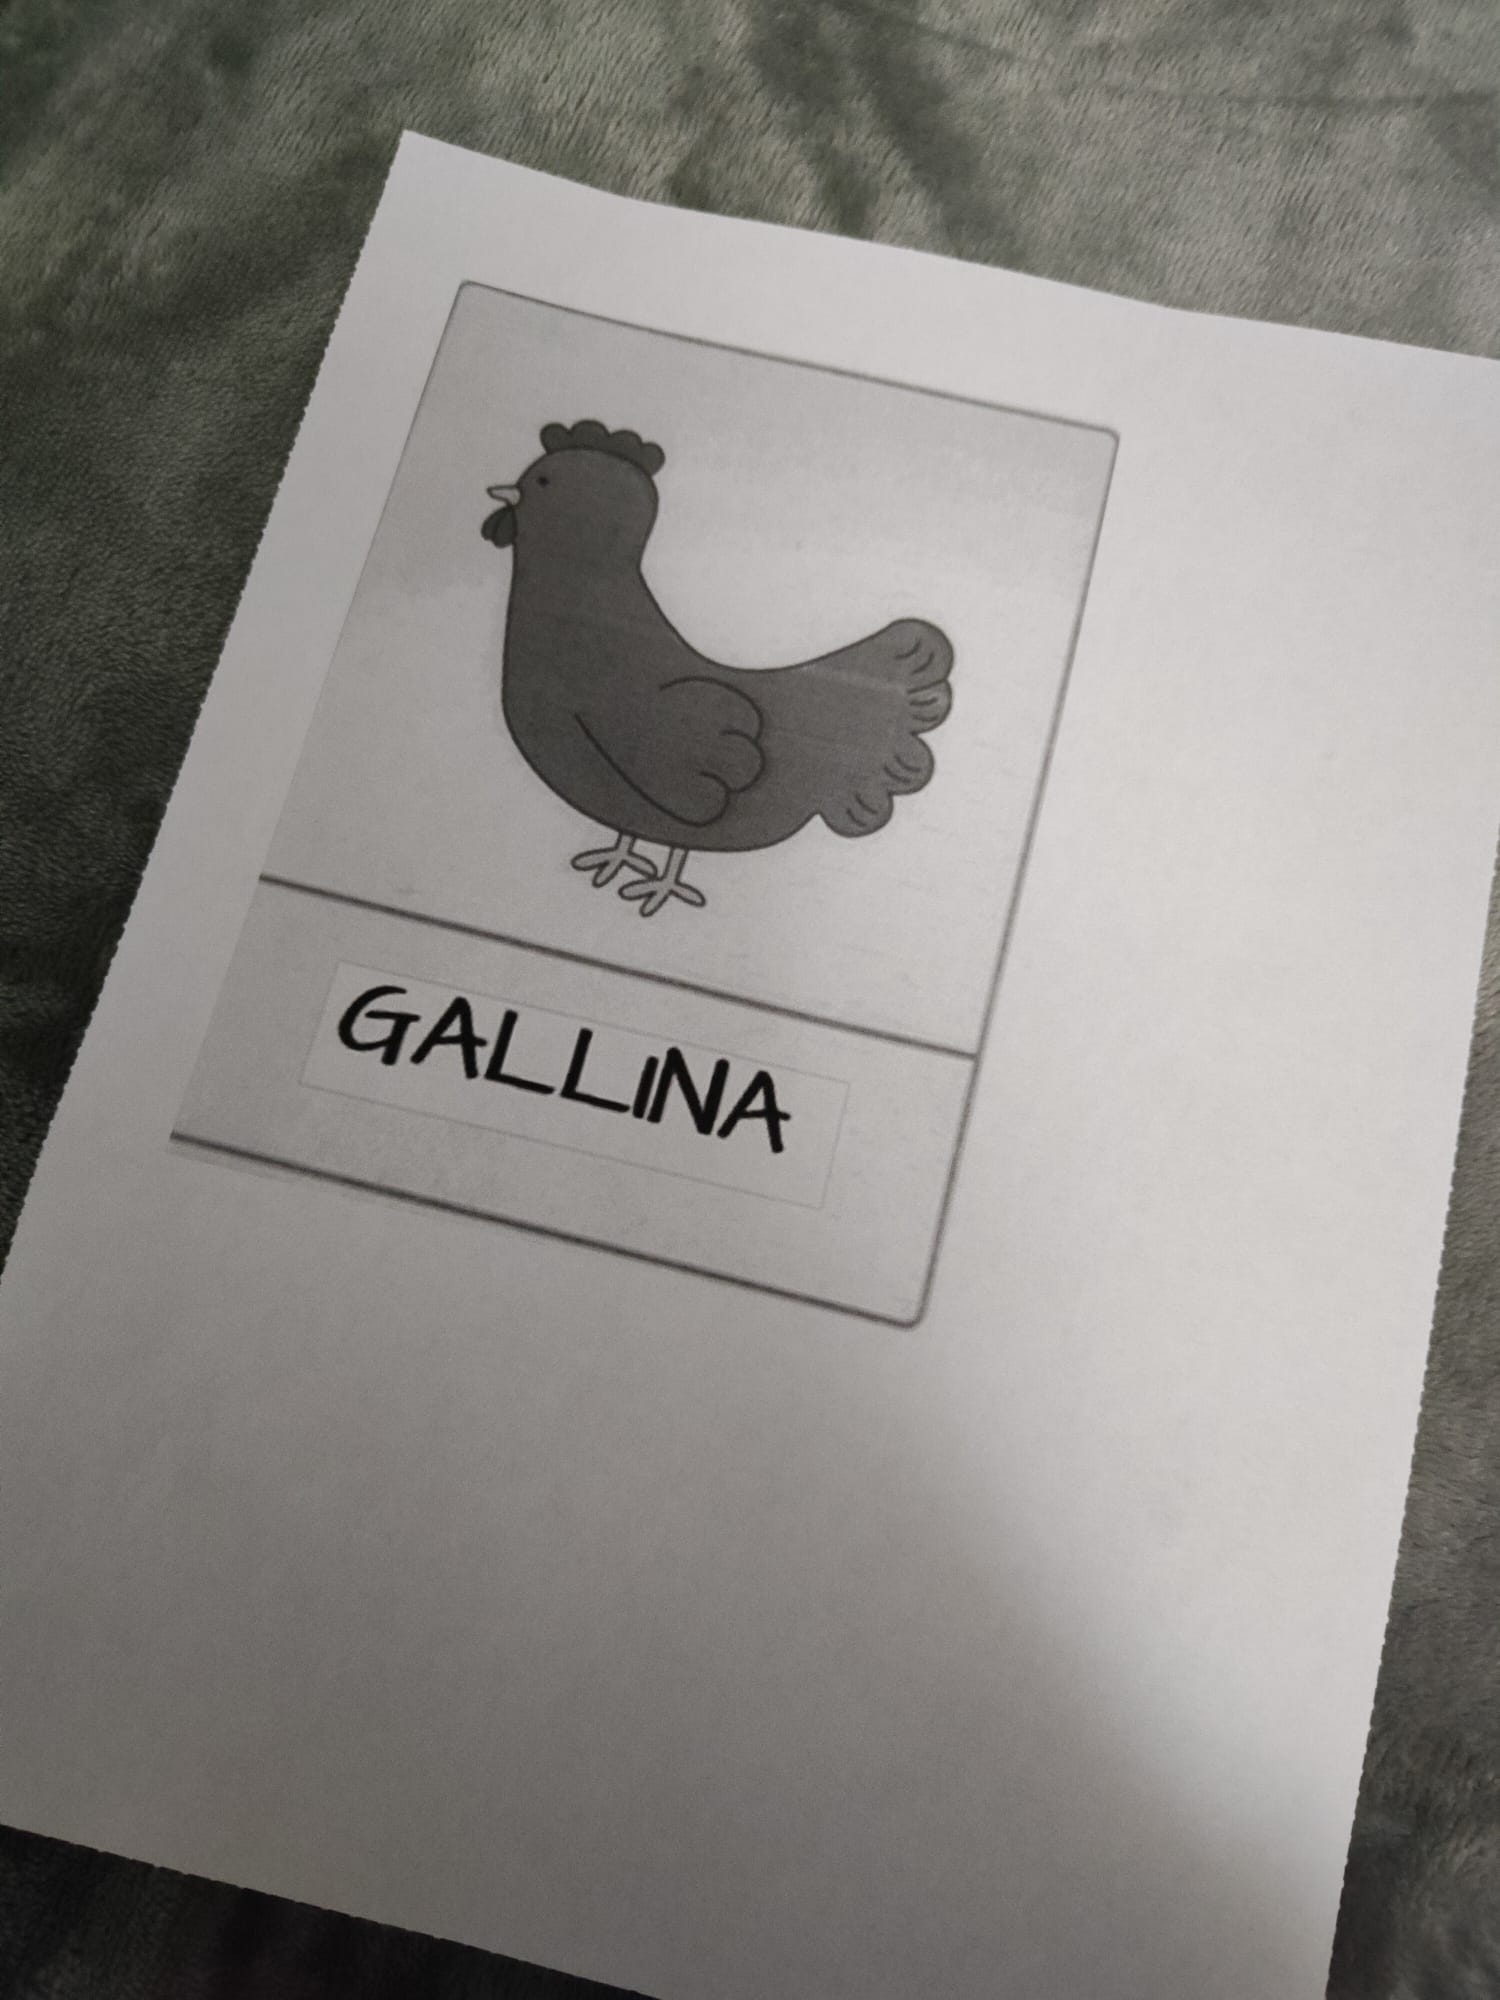gallina: (321, 285, 991, 1270)
